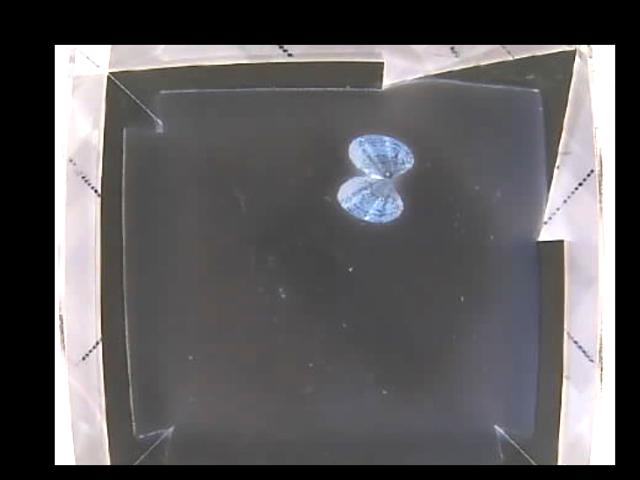Shell: (337, 135, 412, 222)
